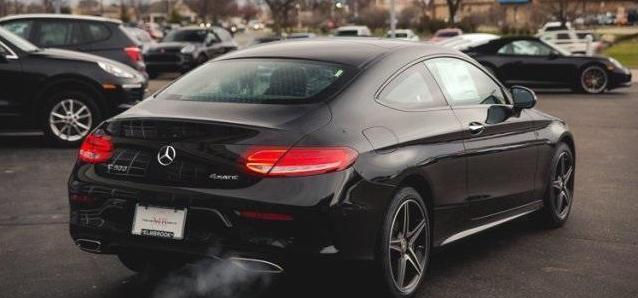C300Coupe: (59, 32, 586, 297)
